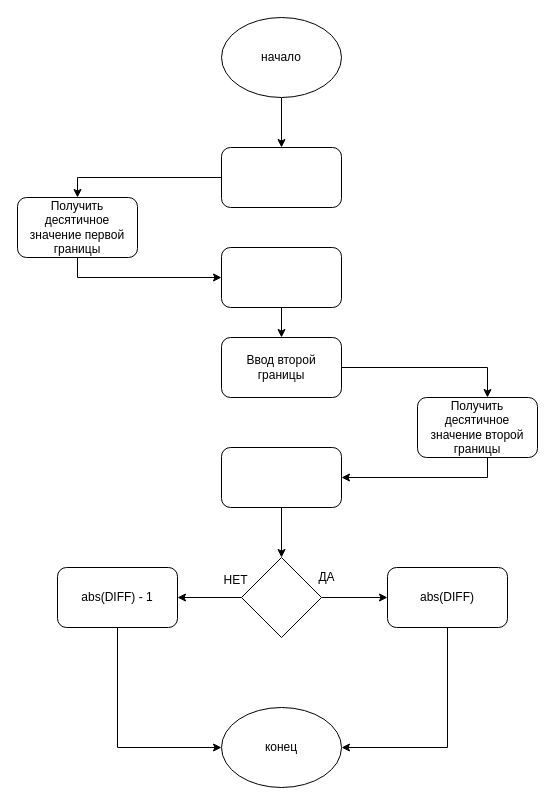
Image size: 555x805. Some labels were removed from this diagram. Here are the shapes that lost their labels. From the top down, the centre of each, then its label:
At point 281,177: "Ввод первой границы".
At point 281,277: "Вывод места в алфавите для первой границы".
At point 281,477: "Вывод места в алфавите для второй границы".
At point 281,597: "abs(DIFF) = 0".
